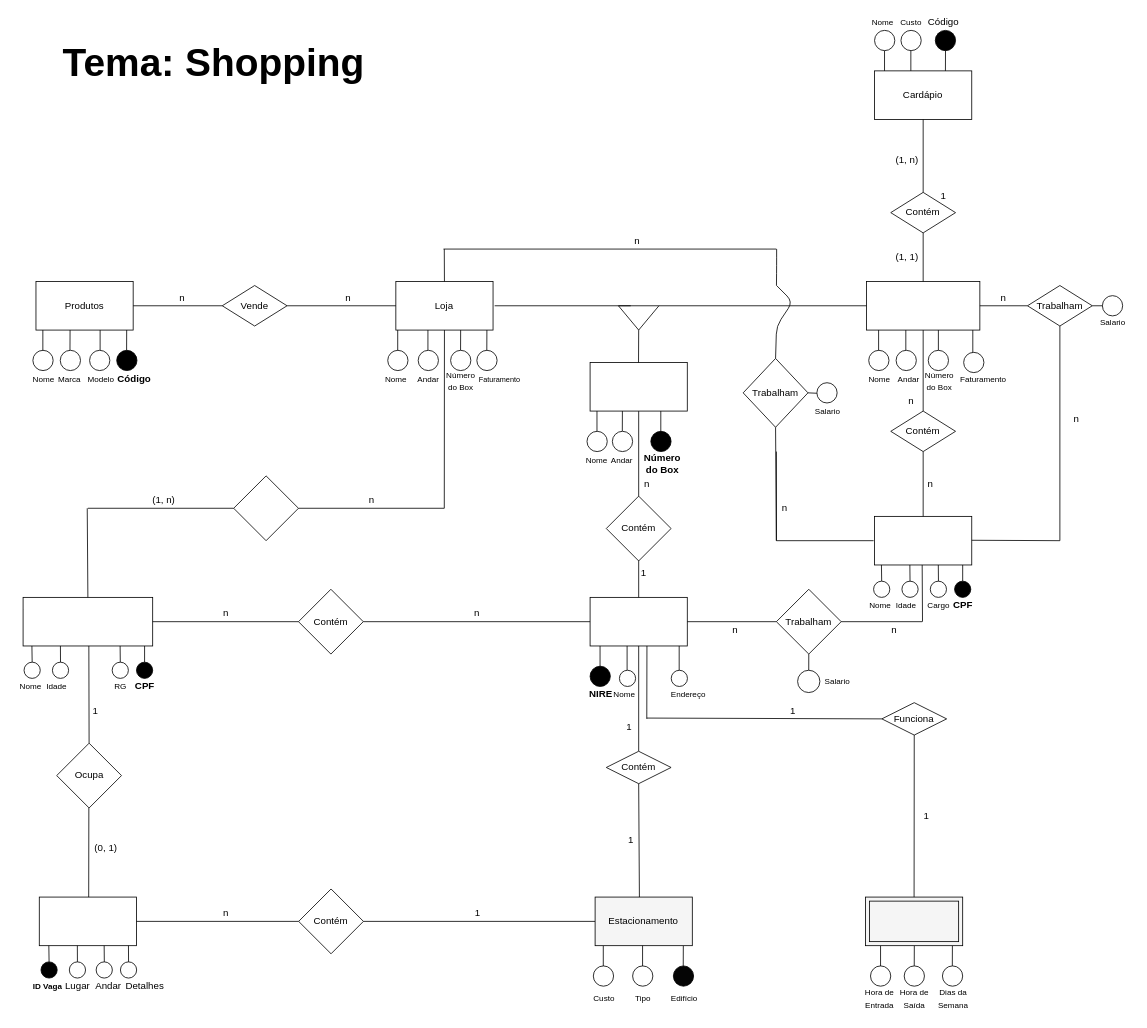
The diagram is 1147 pixels wide and 1028 high, and some of its shapes have lost their labels. The shapes that lost their labels are listed below. From the top down, each one's centre as x and y in pixels, then its label:
[923,305]: Restaurante
[638,386]: Estabelecimento
[265,508]: Visitam
[923,540]: Funcionário
[87,621]: Cliente
[638,621]: Shopping
[87,921]: Vagas
[914,921]: Horário
